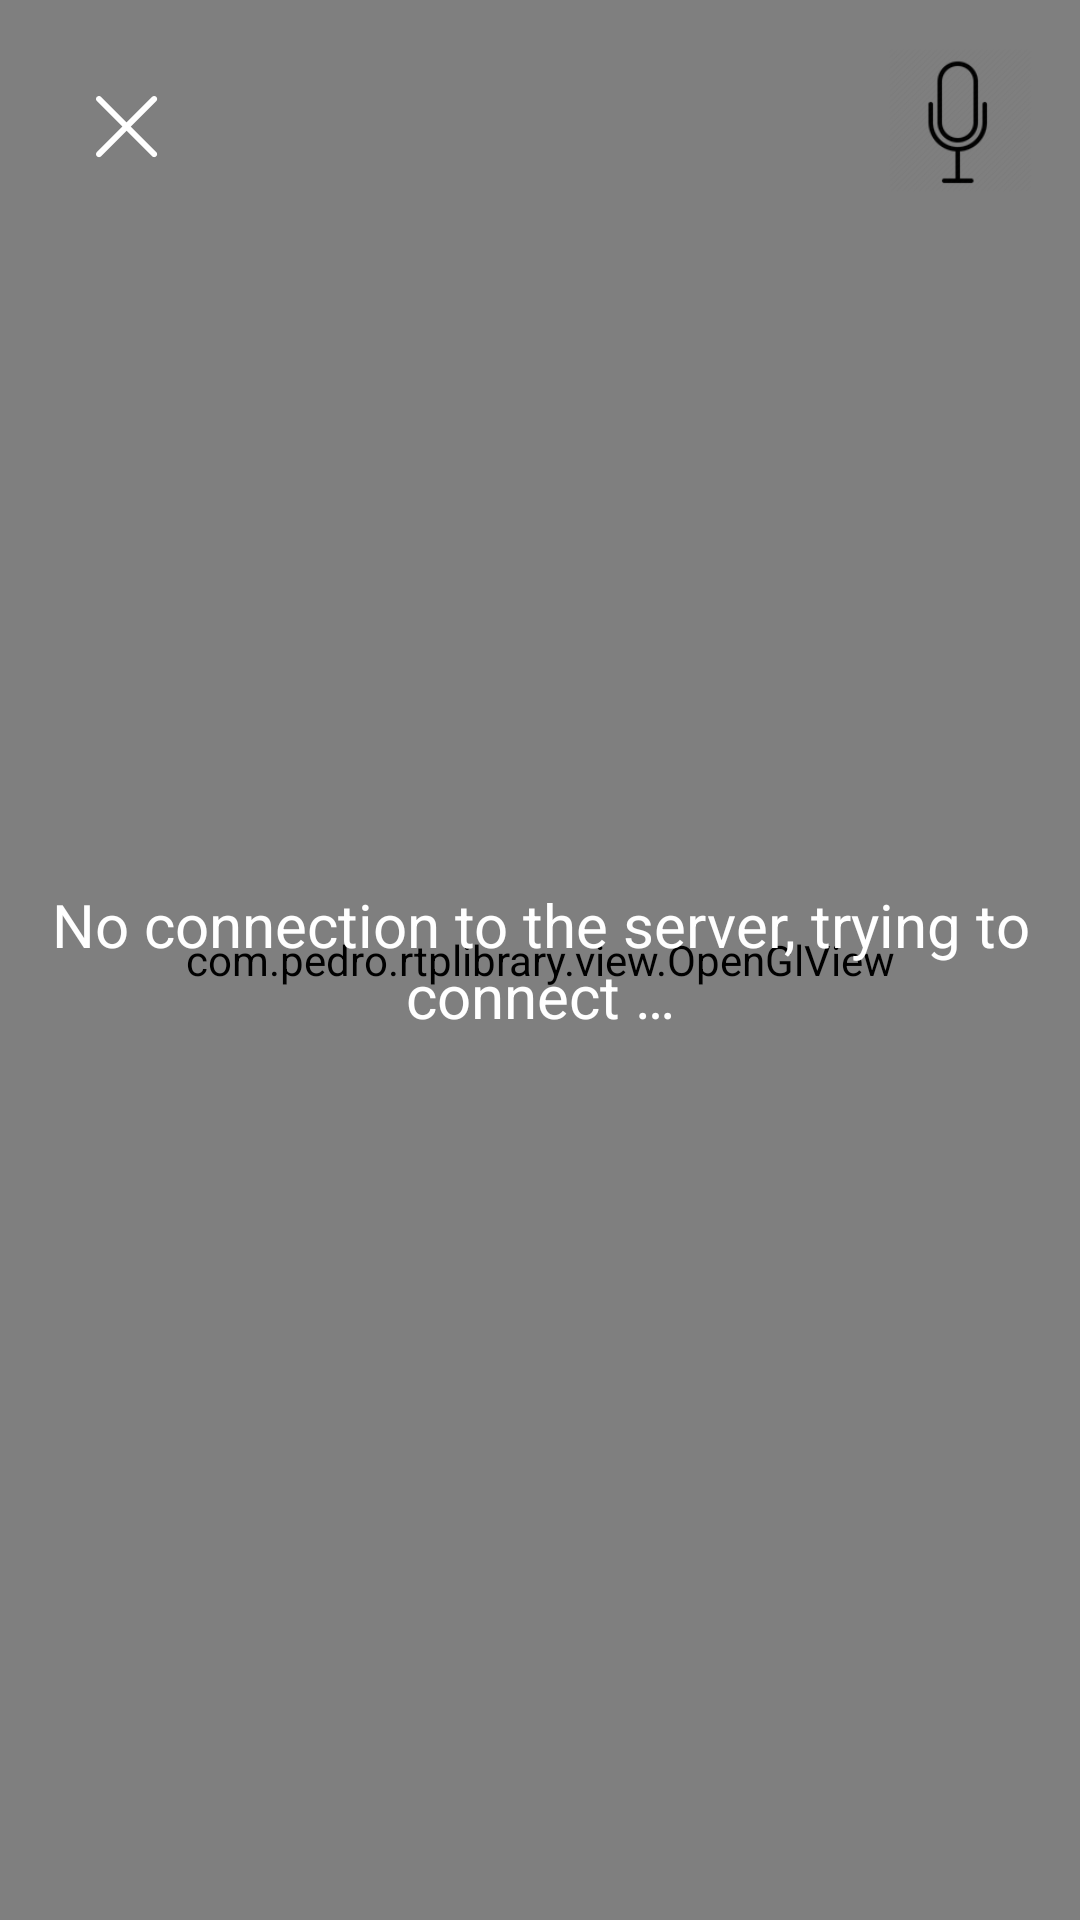

Named icons in this screenshot (1080w x 1920h) and their bounding boxes, (x1, y1, x2, y2):
close: (96, 96, 157, 157)
microphone on: (928, 61, 987, 183)
